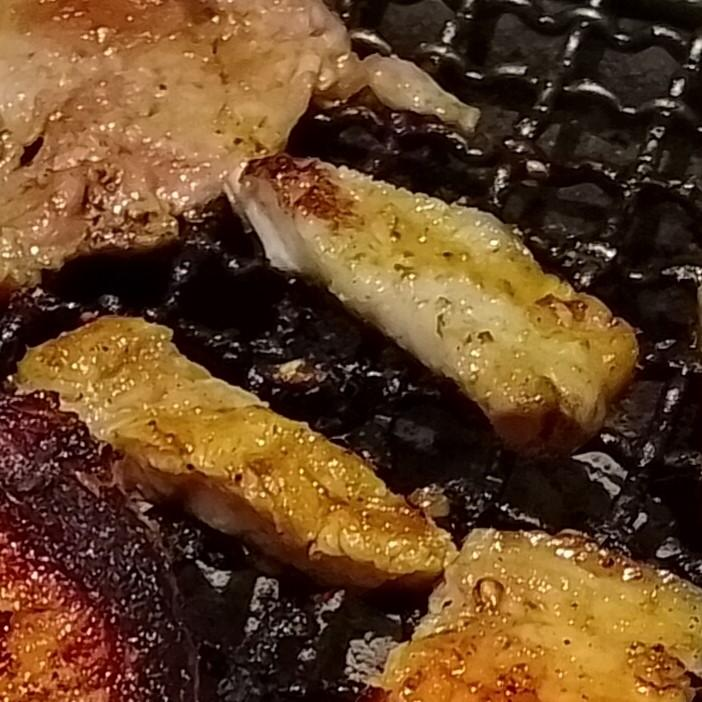Overcooked: (0, 393, 218, 701)
Well-Cooked: (17, 317, 457, 610), (232, 155, 640, 465), (0, 0, 448, 274), (378, 536, 701, 701)
